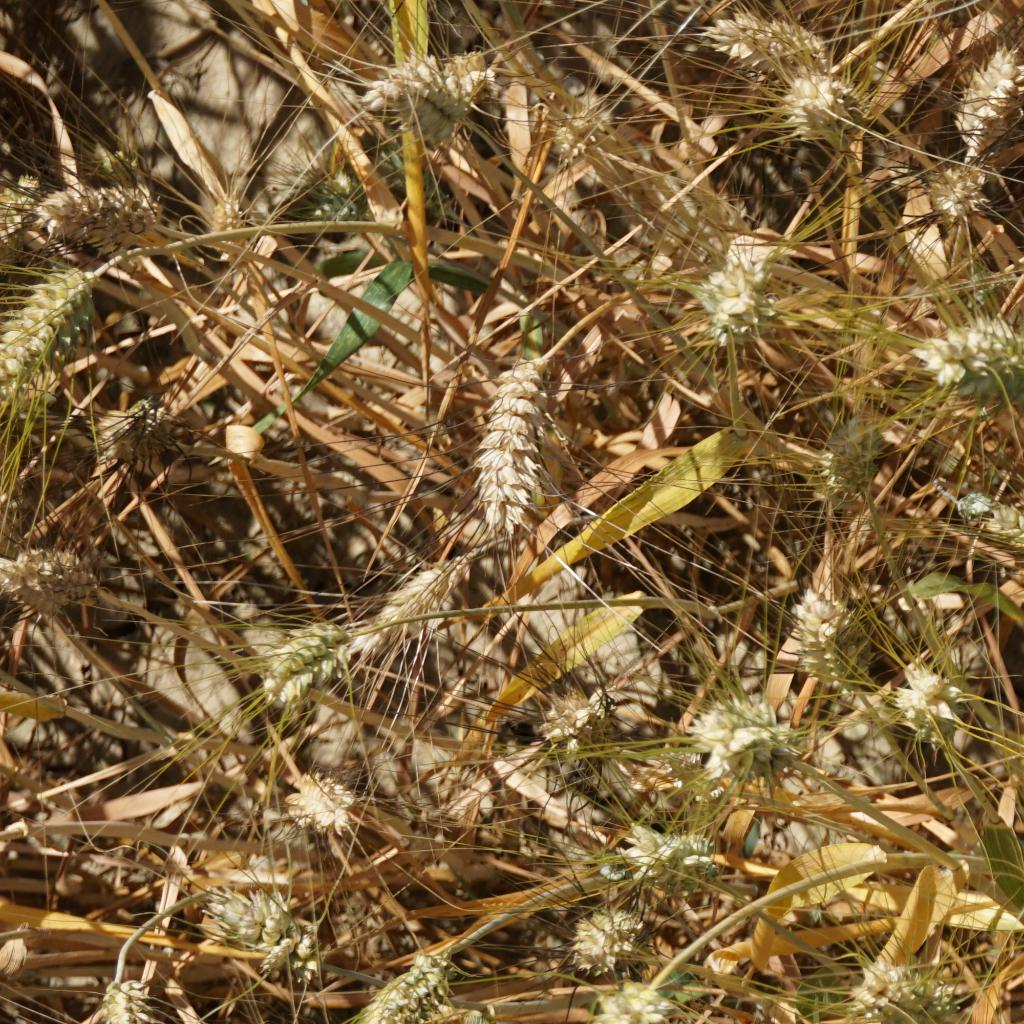0-0: (478, 352, 559, 514), (356, 31, 502, 112), (35, 181, 181, 260), (787, 581, 872, 698), (820, 399, 896, 522), (210, 868, 305, 965), (323, 939, 431, 1024), (683, 6, 833, 67), (923, 301, 1024, 391), (512, 656, 601, 754), (0, 287, 88, 386), (931, 39, 1016, 139), (240, 618, 346, 698), (362, 553, 462, 633), (606, 803, 707, 882), (519, 74, 608, 153), (698, 249, 777, 332), (961, 476, 1024, 579), (858, 954, 949, 1024), (760, 69, 846, 143), (275, 752, 356, 828), (563, 898, 642, 974), (0, 547, 94, 610), (889, 651, 961, 728), (693, 695, 770, 761), (923, 165, 1002, 228), (774, 712, 854, 774), (0, 160, 49, 255), (92, 980, 171, 1024), (547, 990, 647, 1024)
